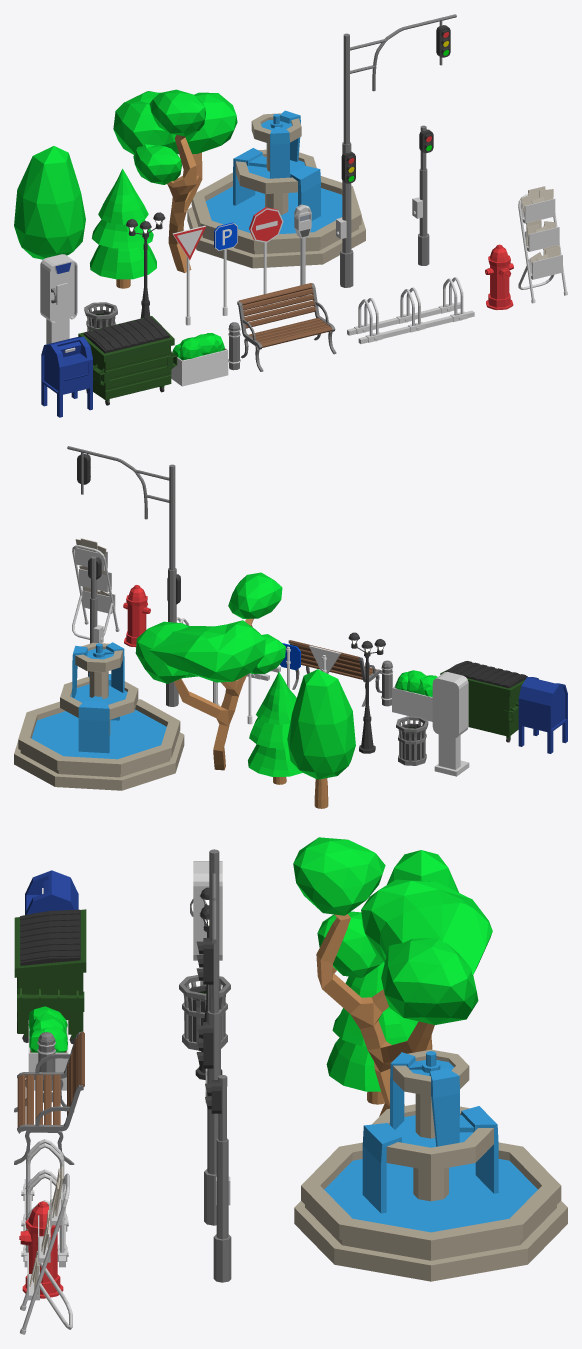
File: WORLD_ITEMS.glb
The picture shows the model from 3 angles, top to bottom: view 1: azimuth 30°, elevation 25°; view 2: azimuth 150°, elevation 25°; view 3: azimuth 270°, elevation 25°; orthographic projection. The views are drawn at different scales.
Parts seen in each view (by area): view 1: Fountain, Tree 1.001, Tree 2.001, Dumpster, Tree 3.001, Bench, Traffic Light2, NewspaperStand, Mail, Bike Rack, Phone, bush (+9 smaller); view 2: Fountain, Tree 1.001, Tree 2.001, Dumpster, Tree 3.001, Phone, Mail, Traffic Light2, NewspaperStand, bush, Bench, TrashBin (+6 smaller); view 3: Fountain, Tree 1.001, Dumpster, Traffic Light2, Tree 3.001, Bench, Traffic Light1, NewspaperStand, TrashBin, Bike Rack, bush, Mail (+4 smaller).
Part boxes in pixels (left/top/right/bottom): Fountain: left=187, top=110, right=365, bottom=268; Tree 1.001: left=113, top=89, right=237, bottom=272; Tree 2.001: left=14, top=146, right=85, bottom=259; Dumpster: left=78, top=316, right=177, bottom=405; Tree 3.001: left=90, top=168, right=156, bottom=288; Bench: left=237, top=283, right=336, bottom=371; Traffic Light2: left=336, top=14, right=456, bottom=287; NewspaperStand: left=518, top=186, right=567, bottom=303; Mail: left=41, top=336, right=92, bottom=417; Bike Rack: left=347, top=277, right=474, bottom=343; Phone: left=40, top=254, right=77, bottom=344; bush: left=171, top=333, right=228, bottom=386; Fountain: left=14, top=642, right=184, bottom=790; Tree 1.001: left=135, top=572, right=285, bottom=770; Tree 2.001: left=287, top=669, right=355, bottom=808; Dumpster: left=440, top=661, right=527, bottom=742; Tree 3.001: left=248, top=671, right=302, bottom=784; Phone: left=432, top=671, right=469, bottom=776; Mail: left=518, top=677, right=567, bottom=753; Traffic Light2: left=67, top=446, right=180, bottom=706; NewspaperStand: left=72, top=538, right=119, bottom=639; bush: left=392, top=670, right=437, bottom=721; Bench: left=288, top=640, right=381, bottom=706; TrashBin: left=396, top=716, right=428, bottom=765; Fountain: left=294, top=1049, right=567, bottom=1281; Tree 1.001: left=293, top=837, right=492, bottom=1116; Dumpster: left=14, top=909, right=86, bottom=1043; Traffic Light2: left=196, top=849, right=220, bottom=1225; Tree 3.001: left=326, top=962, right=418, bottom=1104; Bench: left=14, top=1031, right=84, bottom=1164; Traffic Light1: left=205, top=1075, right=231, bottom=1282; NewspaperStand: left=20, top=1166, right=72, bottom=1334; TrashBin: left=179, top=975, right=230, bottom=1050; Bike Rack: left=21, top=1139, right=68, bottom=1267; bush: left=28, top=1006, right=68, bottom=1090; Mail: left=25, top=870, right=78, bottom=914.
Bounding box in the file's own units: 10.99 × 5.19 × 7.03.
